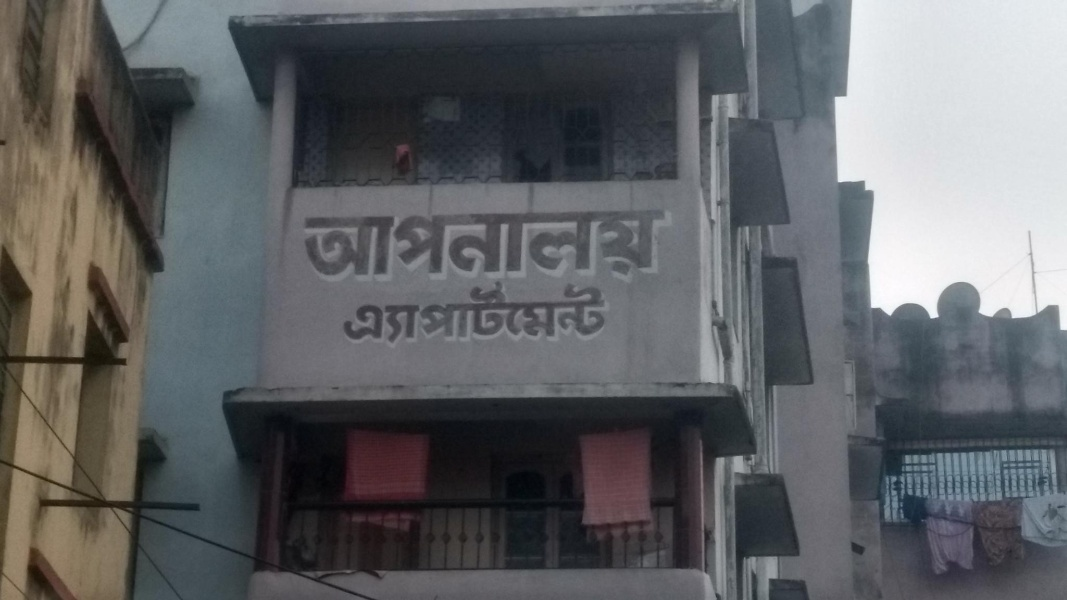text: (657, 202, 673, 293), (305, 202, 320, 293), (321, 202, 336, 293), (337, 202, 352, 293), (353, 202, 368, 293), (369, 202, 384, 293), (385, 202, 400, 293), (401, 202, 416, 293), (417, 202, 432, 293), (433, 202, 448, 293), (449, 202, 464, 293), (465, 202, 480, 293), (481, 202, 496, 293), (497, 202, 512, 293), (513, 202, 528, 293), (529, 202, 544, 293), (545, 202, 560, 293), (561, 202, 576, 293), (577, 202, 592, 293), (593, 202, 608, 293), (609, 202, 624, 293), (625, 202, 640, 293), (641, 202, 656, 293), (337, 277, 352, 347), (353, 277, 368, 347), (369, 277, 384, 347), (385, 277, 400, 347), (401, 277, 416, 347), (417, 277, 432, 347), (433, 277, 448, 347), (449, 277, 464, 347), (465, 277, 480, 347), (481, 277, 496, 347), (497, 277, 512, 347), (513, 277, 528, 347), (529, 277, 544, 347), (545, 277, 560, 347), (561, 277, 576, 347), (577, 277, 592, 347), (593, 277, 608, 347), (353, 279, 368, 347), (369, 279, 384, 347), (385, 279, 400, 347), (401, 279, 416, 347), (417, 279, 432, 347), (433, 279, 448, 347), (449, 279, 464, 347), (465, 279, 480, 347), (481, 279, 496, 347), (497, 279, 512, 347), (513, 279, 528, 347), (529, 279, 544, 347), (545, 279, 560, 347), (561, 279, 576, 347), (577, 279, 592, 347), (593, 279, 608, 347), (609, 279, 616, 347), (347, 279, 352, 347), (302, 202, 304, 293), (609, 277, 611, 347)
